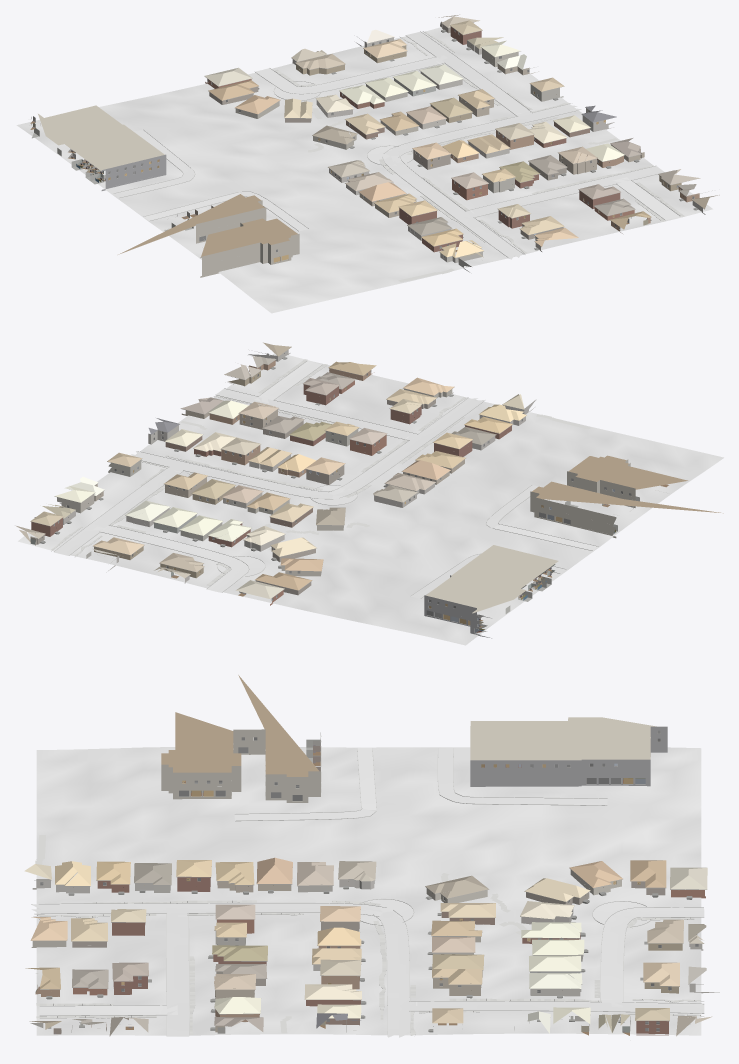
The picture shows the model from 3 angles, top to bottom: view 1: azimuth 30°, elevation 25°; view 2: azimuth 150°, elevation 25°; view 3: azimuth 270°, elevation 25°; orthographic projection. The views are drawn at different scales.
Parts seen in each view (by area): view 1: ground, roof, concrete, roof_flat, wall, wall_com, detail, curb, walk, wall_stucco, wall_stone, room; view 2: ground, roof, concrete, roof_flat, wall, wall_com, detail, curb, walk, wall_stucco, wall_stone, room (+1 smaller); view 3: ground, roof, concrete, roof_flat, wall_com, wall, walk, curb, detail, wall_stone, wall_stucco, glass (+1 smaller).
Boxes of the visible parts, <box> form: ground: <box>16,27,712,313</box>; roof: <box>205,14,719,257</box>; concrete: <box>113,31,679,259</box>; roof_flat: <box>38,105,297,256</box>; wall: <box>205,21,699,252</box>; wall_com: <box>101,154,299,277</box>; detail: <box>29,23,712,262</box>; curb: <box>113,31,680,258</box>; walk: <box>274,31,685,282</box>; wall_stucco: <box>235,48,563,251</box>; wall_stone: <box>292,37,705,272</box>; room: <box>30,23,648,261</box>; ground: <box>18,353,723,645</box>; roof: <box>15,342,526,598</box>; concrete: <box>54,361,598,598</box>; roof_flat: <box>426,455,723,613</box>; wall: <box>30,360,511,605</box>; wall_com: <box>424,459,635,638</box>; detail: <box>30,347,667,632</box>; curb: <box>51,361,598,598</box>; walk: <box>51,359,590,585</box>; wall_stucco: <box>55,388,453,576</box>; wall_stone: <box>34,350,536,583</box>; room: <box>30,374,668,633</box>; ground: <box>36,747,701,1035</box>; roof: <box>24,857,712,1036</box>; concrete: <box>31,748,704,1037</box>; roof_flat: <box>161,675,656,776</box>; wall_com: <box>161,726,667,802</box>; wall: <box>35,877,705,1035</box>; walk: <box>35,835,700,1035</box>; curb: <box>31,748,704,1036</box>; detail: <box>30,731,706,1032</box>; wall_stone: <box>32,879,719,1032</box>; wall_stucco: <box>31,870,621,977</box>; glass: <box>40,730,698,1031</box>.
Size of the model in its own units: 307 by 14.83 by 267.
